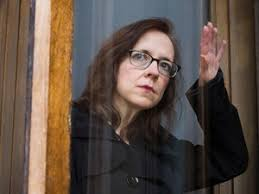white_female: (115, 31, 182, 103)
